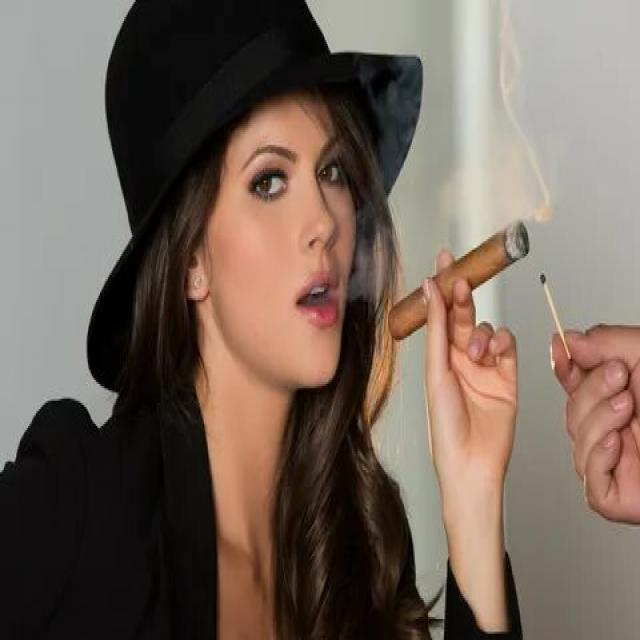smoke: (383, 218, 532, 344)
